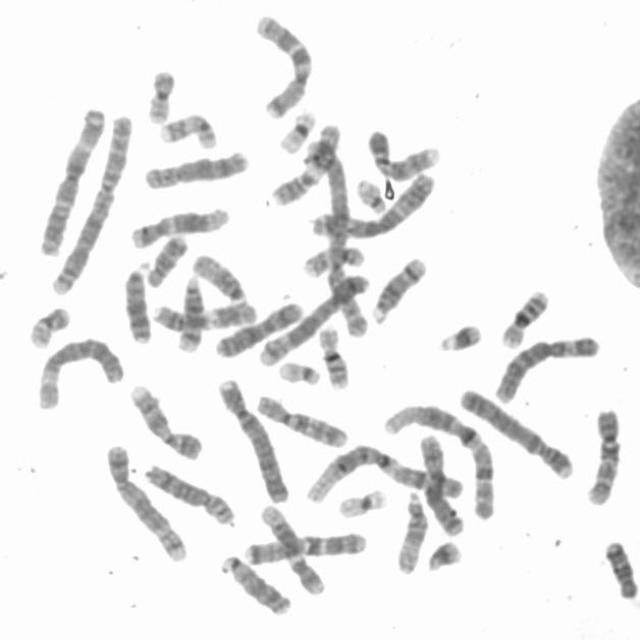A1: (379, 398, 497, 524), (300, 439, 464, 506)
A2: (46, 110, 133, 298), (300, 126, 372, 341)
A3: (35, 102, 108, 257), (308, 170, 436, 238)
B4: (454, 383, 577, 480), (214, 374, 292, 506)
B5: (255, 270, 372, 368), (103, 440, 191, 562)
C10: (252, 390, 350, 450), (581, 401, 624, 508)
C11: (268, 119, 346, 206), (149, 294, 259, 334)
C12: (256, 499, 328, 596), (126, 202, 232, 250)
C6: (492, 328, 602, 405), (34, 331, 126, 412)
C7: (251, 9, 315, 121), (241, 527, 370, 568)
C8: (138, 458, 238, 528), (140, 144, 252, 191)
C9: (126, 379, 207, 461), (363, 124, 442, 183)
D13: (215, 550, 294, 617), (119, 256, 154, 347)
D14: (367, 252, 429, 326), (173, 272, 205, 353)
D15: (188, 248, 250, 306), (393, 486, 429, 576)
E16: (496, 283, 552, 350), (314, 322, 351, 391)
E17: (155, 107, 218, 151), (298, 242, 366, 278)
E18: (142, 229, 190, 288), (598, 532, 639, 600)
F19: (273, 104, 318, 156), (336, 483, 390, 520)
F20: (24, 301, 72, 349), (143, 64, 177, 126)
G21: (433, 317, 485, 354), (422, 534, 465, 573)
G22: (273, 356, 322, 387), (355, 176, 389, 214)
X: (211, 294, 306, 361), (416, 428, 468, 538)
